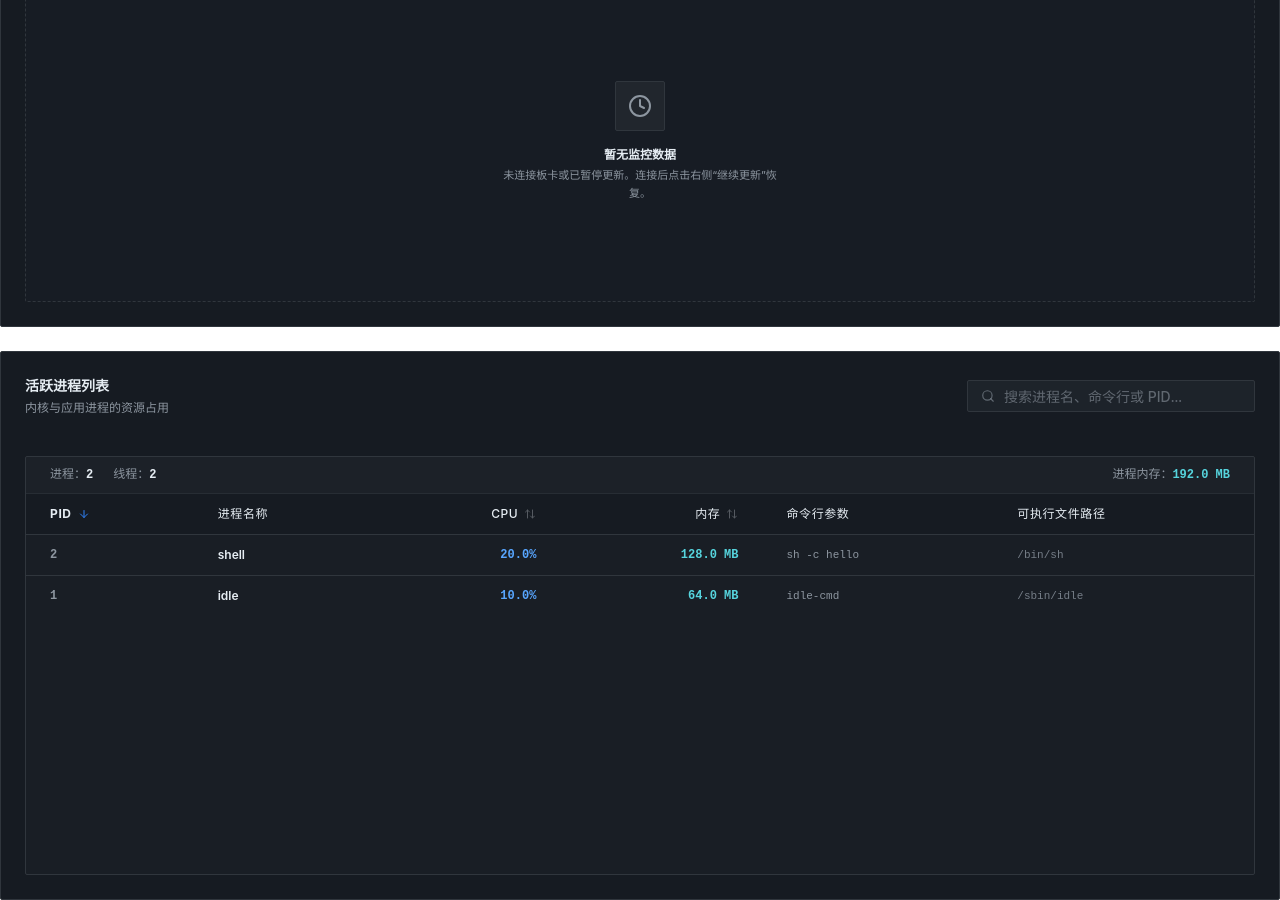
Test: MonitorView Component › shows the selected process threads and CPU usage
This screenshot has width=1280, height=900.
(page scrolled)
Click the text "shell" at point(640, 555), box [26, 534, 1254, 576]
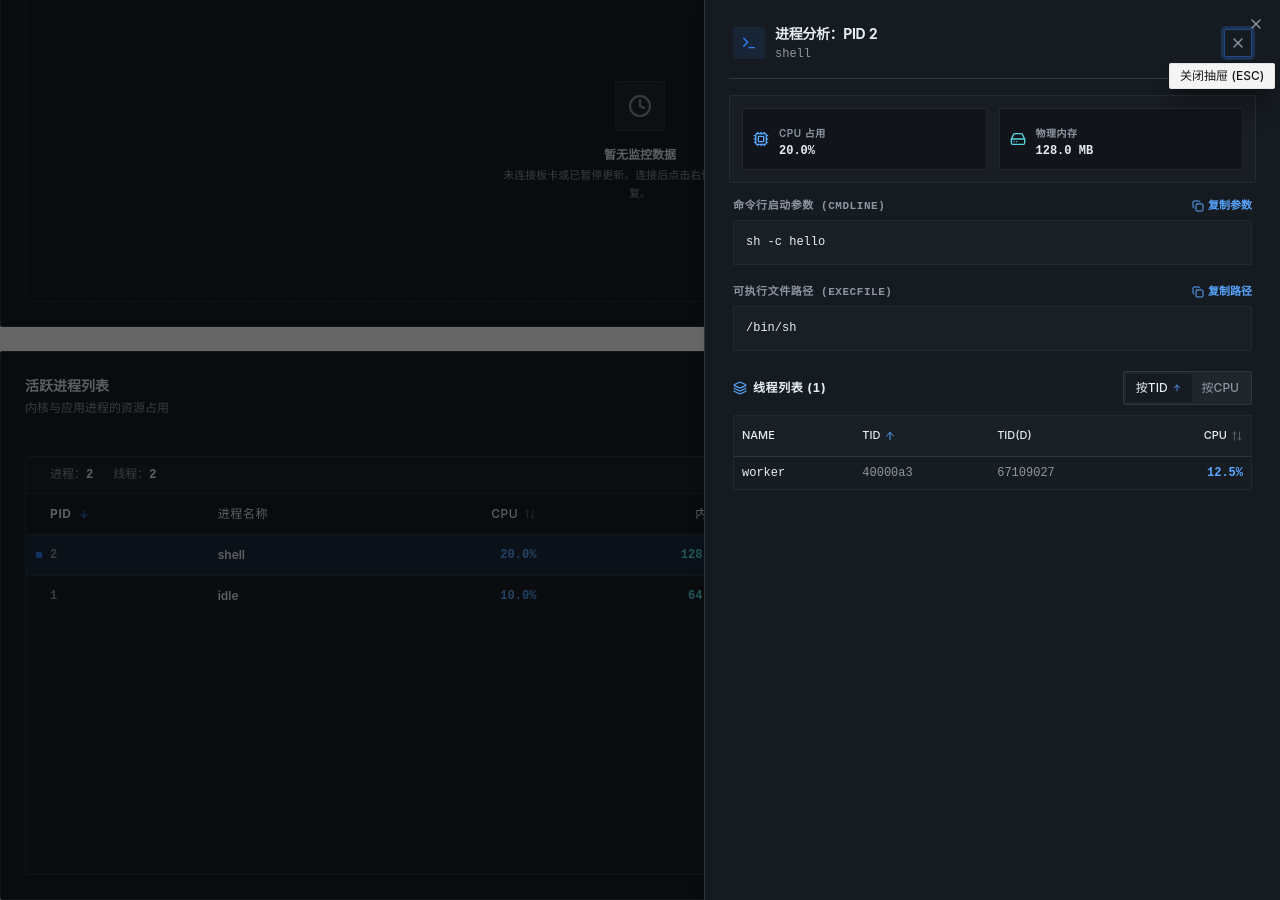
expect the heading "进程分析：PID 2" is shown: met, box [775, 24, 877, 44]
expect the heading "线程列表 (1)" is shown: met, box [753, 380, 826, 396]
expect the column heading "TID(D)" is shown: met, box [989, 416, 1139, 456]
